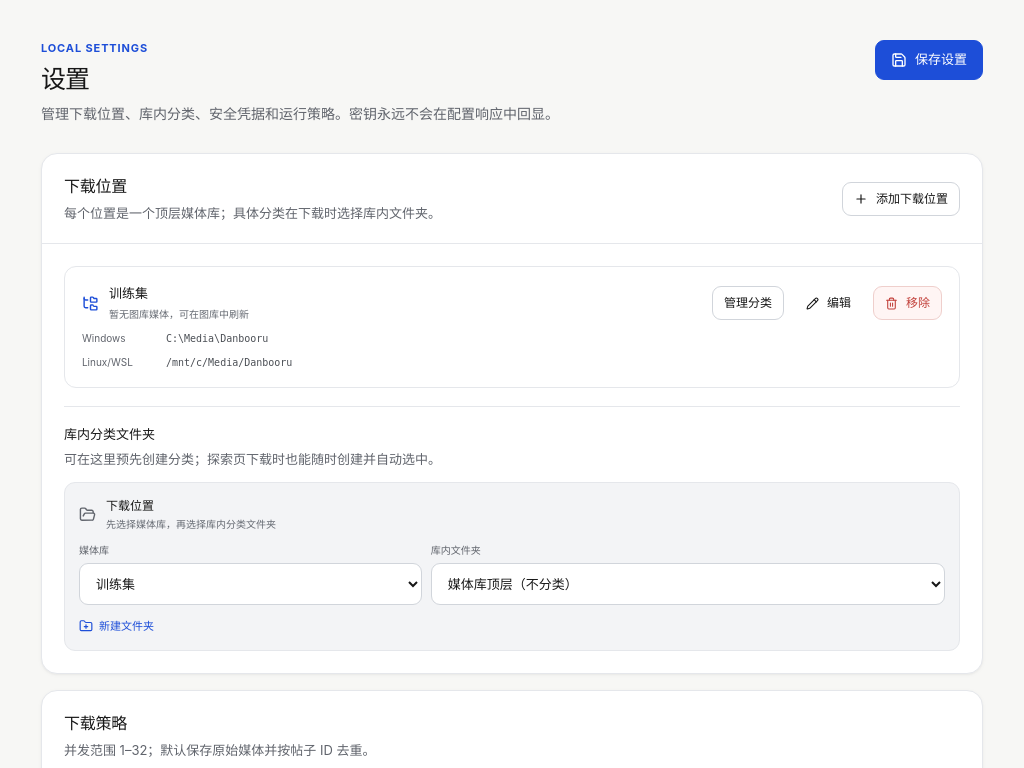
SettingsView media root mapping › removes a download location without deleting its files
This screenshot has width=1024, height=768.
Click the button with aria-label "移除下载位置 训练集": (908, 303) x1=873 y1=286 x2=942 y2=320
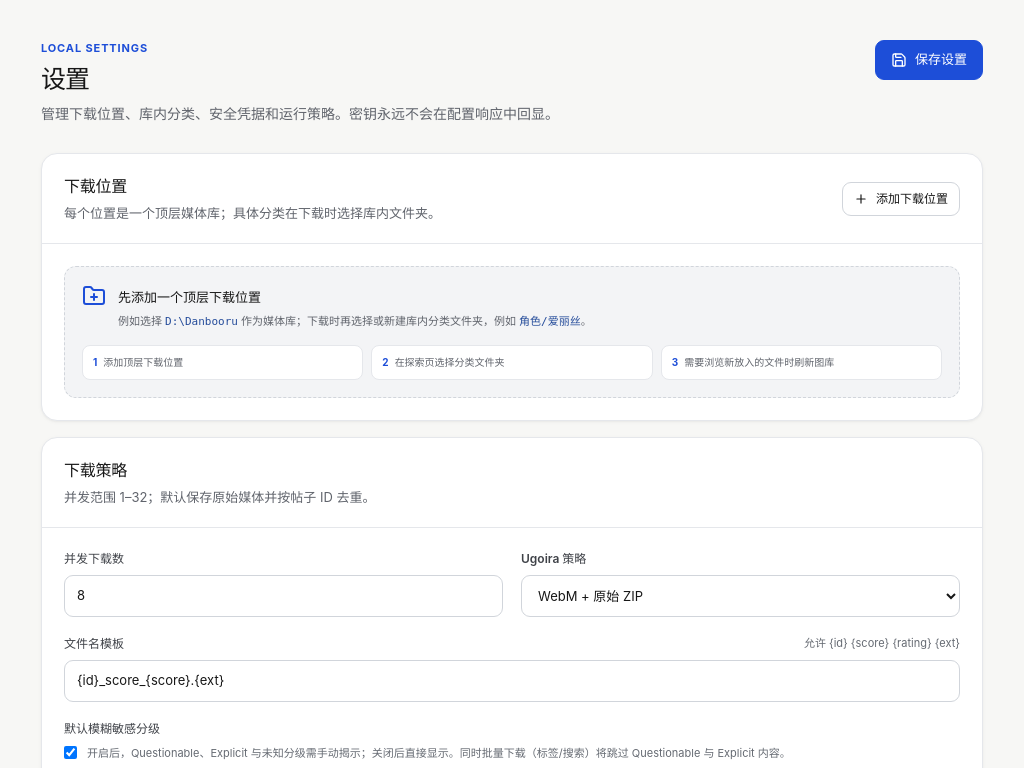
Expected: the text "先添加一个顶层下载位置" is shown, x1=118 y1=290 x2=261 y2=306
